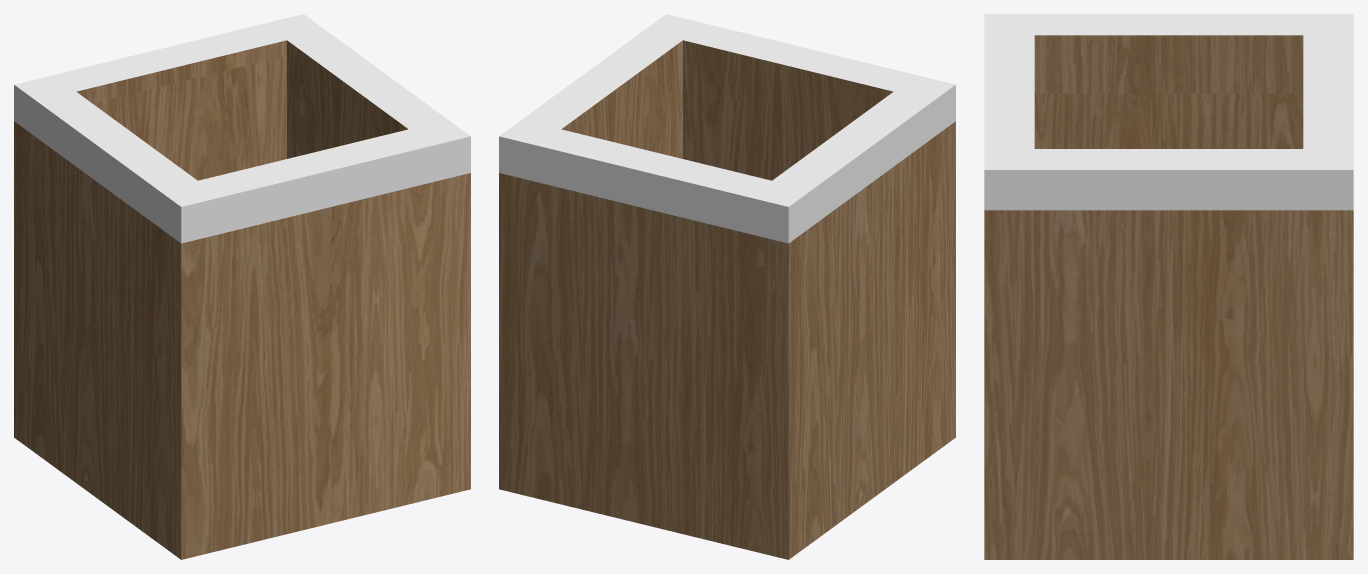
Rendered from Lixeira.glb.
3 views of the same model, side by side, from view 1: azimuth 30°, elevation 25°; view 2: azimuth 150°, elevation 25°; view 3: azimuth 270°, elevation 25° (orthographic). The views are drawn at different scales.
Visible parts, largest first — view 1: Cube.033; view 2: Cube.033; view 3: Cube.033.
Boxes of the visible parts, <box> form: Cube.033: <box>14,14,470,559</box>; Cube.033: <box>499,14,955,559</box>; Cube.033: <box>984,14,1353,559</box>.
Bounding box in the file's own units: 0.6176 × 0.7194 × 0.6176.
Materials: 2 (2 with a texture image).
